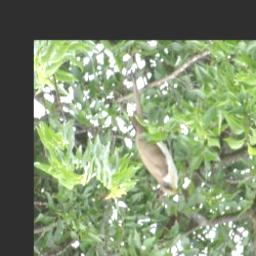Cuckoo: (128, 67, 186, 200)
